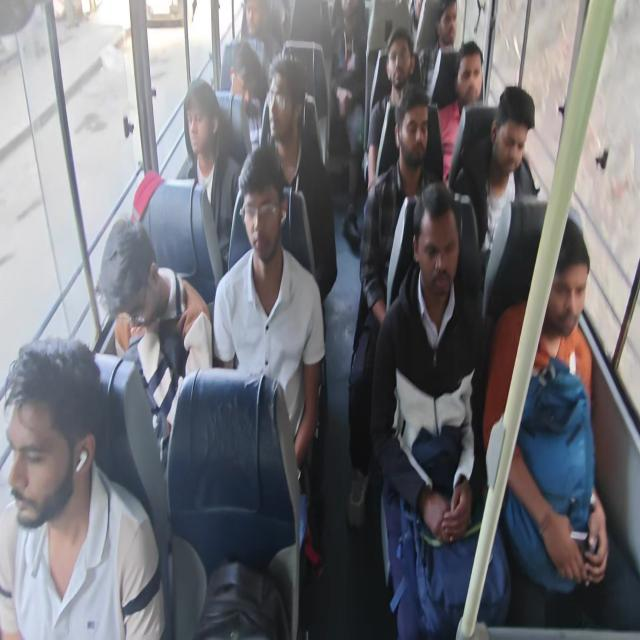person: (2, 1, 629, 637), (370, 180, 511, 638), (484, 211, 609, 624), (0, 336, 166, 639), (346, 83, 444, 529), (212, 145, 326, 474), (99, 216, 212, 463), (449, 85, 544, 322), (258, 54, 338, 302), (181, 78, 242, 270), (329, 1, 368, 252), (366, 27, 421, 194), (437, 40, 484, 183), (220, 0, 282, 95), (228, 40, 267, 154), (419, 0, 460, 108)
